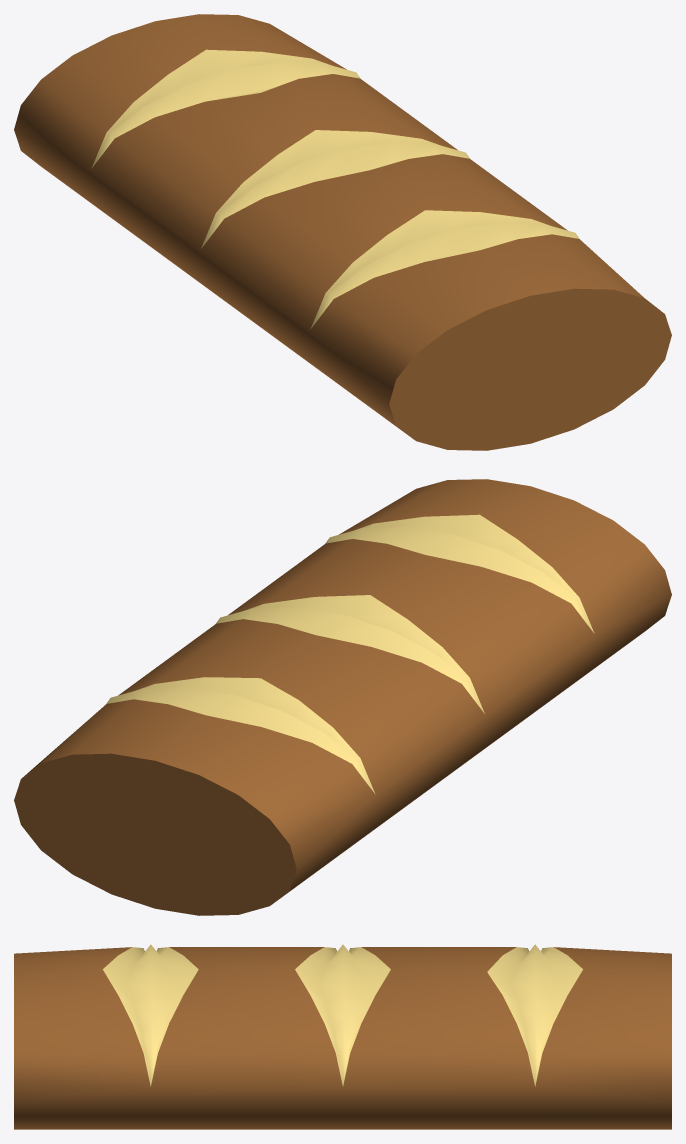
The model's file is Bread_Blockout.fbx.
3 renders of one model, top to bottom at view 1: azimuth 30°, elevation 25°; view 2: azimuth 150°, elevation 25°; view 3: azimuth 270°, elevation 25°, orthographic. The views are drawn at different scales.
Visible parts, largest first — view 1: bread; view 2: bread; view 3: bread.
Part boxes in pixels (<box>): bread: <box>14,14,671,450</box>; bread: <box>14,479,671,915</box>; bread: <box>14,944,671,1129</box>.
Size of the model in its own units: 24.86 by 13.08 by 56.74.
